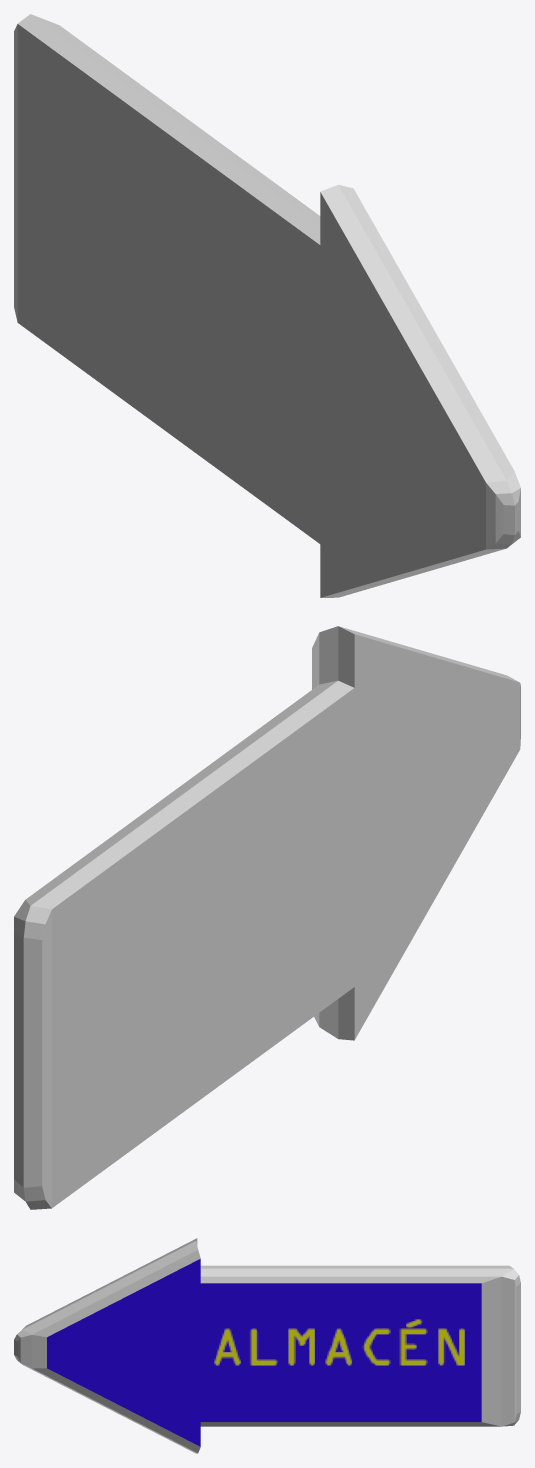
The model's file is señal_almacen_sp.fbx.
The picture shows the model from 3 angles, top to bottom: view 1: azimuth 30°, elevation 25°; view 2: azimuth 150°, elevation 25°; view 3: azimuth 270°, elevation 25°; orthographic projection. The views are drawn at different scales.
Parts seen in each view (by area): view 1: Pointer:Mesh; view 2: Pointer:Mesh; view 3: Pointer:Mesh.
Part boxes in pixels (x1=…): Pointer:Mesh: x1=14, y1=14, x2=520, y2=597; Pointer:Mesh: x1=14, y1=626, x2=520, y2=1209; Pointer:Mesh: x1=14, y1=1238, x2=520, y2=1453.
Size of the model in its own units: 0.1567 by 1.59 by 3.42.
3 materials, 1 textured.
